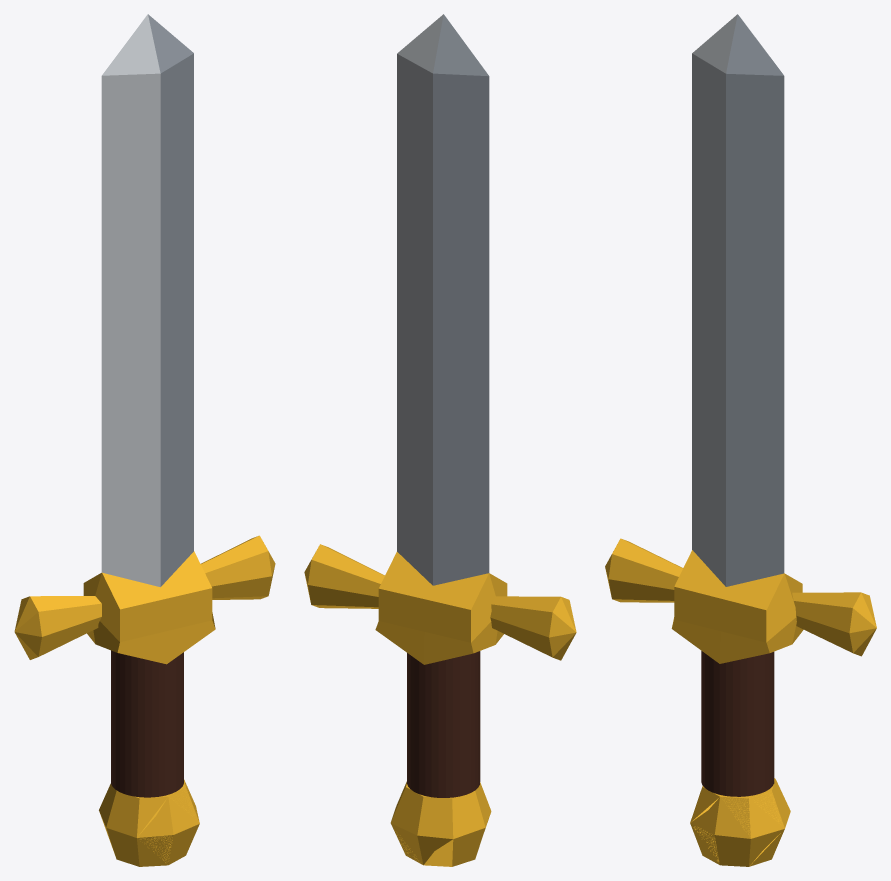
Rendered from first_sword.glb.
3 renders of one model, left to right at view 1: azimuth 30°, elevation 25°; view 2: azimuth 150°, elevation 25°; view 3: azimuth 330°, elevation 25°, orthographic.
Visible parts, largest first — view 1: Cube; view 2: Cube; view 3: Cube.
Boxes of the visible parts, <box> form: Cube: <box>14,14,275,866</box>; Cube: <box>304,14,576,866</box>; Cube: <box>605,14,876,866</box>.
Bounding box in the file's own units: 1.02 × 3.06 × 0.3276.
